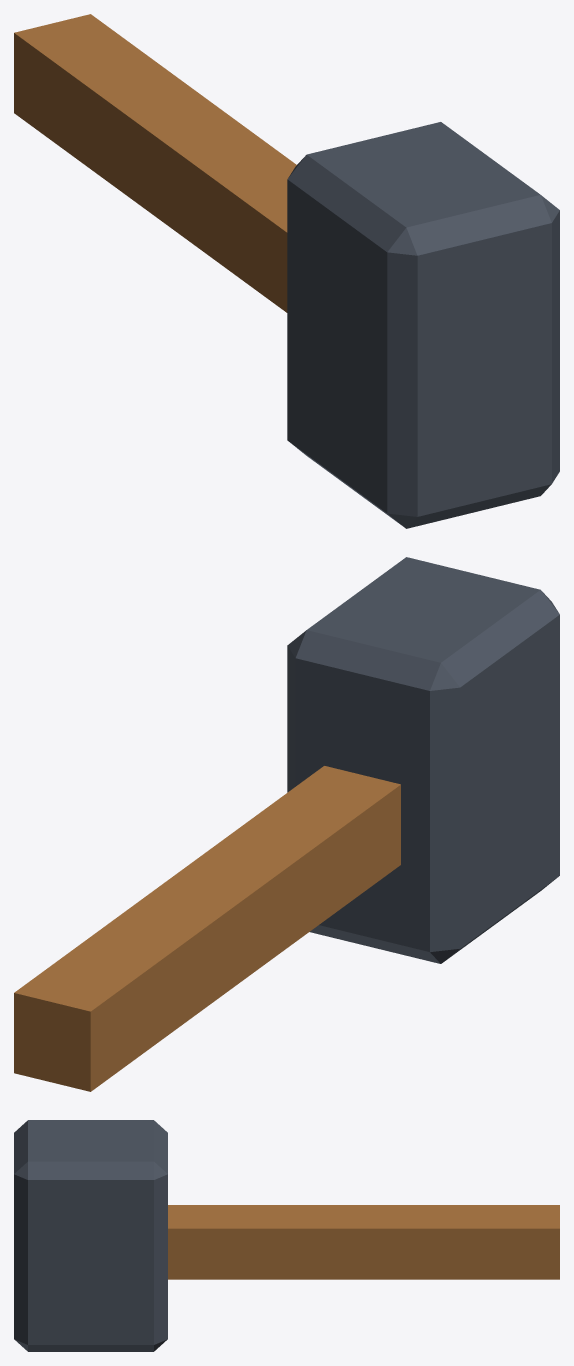
The model's file is tool_hammer.glb.
The picture shows the model from 3 angles, top to bottom: view 1: azimuth 30°, elevation 25°; view 2: azimuth 150°, elevation 25°; view 3: azimuth 270°, elevation 25°; orthographic projection. The views are drawn at different scales.
Visible parts, largest first — view 1: tool_hammer; view 2: tool_hammer; view 3: tool_hammer.
Boxes of the visible parts, x1,y1,x2,y2 form: tool_hammer: (14, 14, 559, 528); tool_hammer: (14, 557, 559, 1091); tool_hammer: (14, 1120, 559, 1351).
Bounding box in the file's own units: 0.18 × 0.3 × 0.78.
